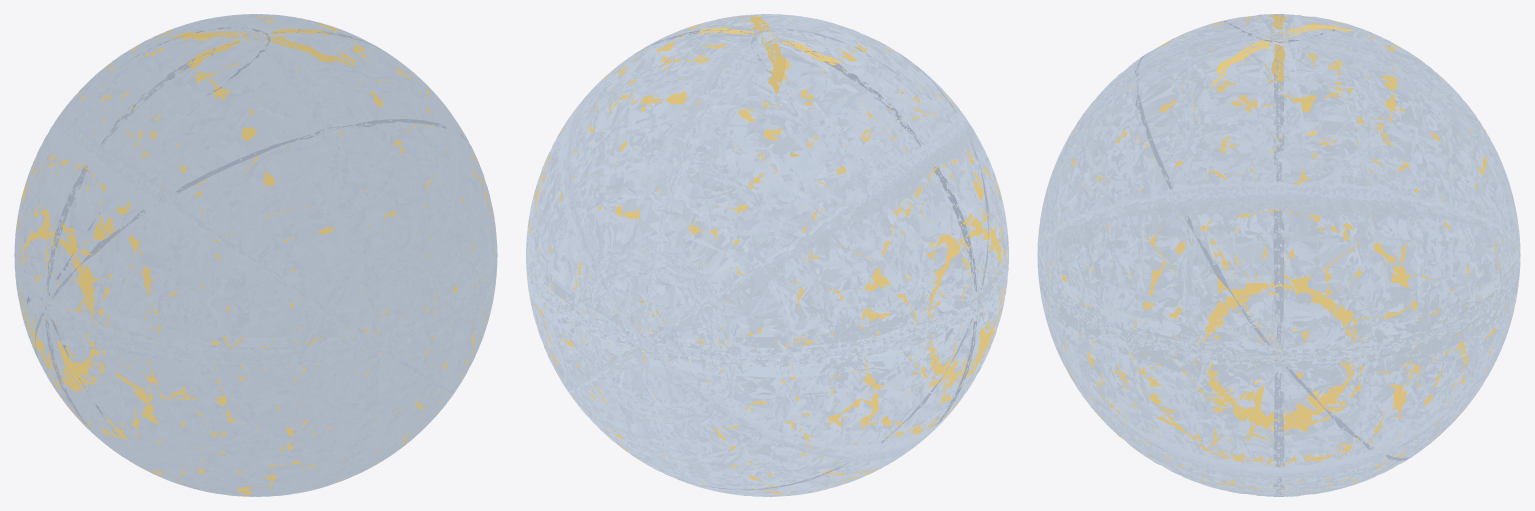
The model's file is row-5.glb.
The picture shows the model from 3 angles, left to right: view 1: azimuth 30°, elevation 25°; view 2: azimuth 150°, elevation 25°; view 3: azimuth 270°, elevation 25°; orthographic projection.
Visible parts, largest first — view 1: row_5, anodes, structure; view 2: row_5, anodes, structure; view 3: row_5, anodes, structure.
Part boxes in pixels (x1,y1,x2,y2): row_5: [14, 14, 497, 496]; anodes: [16, 14, 496, 496]; structure: [24, 27, 473, 492]; row_5: [526, 14, 1008, 496]; anodes: [527, 16, 1006, 495]; structure: [633, 28, 988, 495]; row_5: [1037, 14, 1520, 496]; anodes: [1037, 14, 1519, 494]; structure: [1134, 14, 1411, 496].
Bounding box in the file's own units: 2 × 2 × 2.
